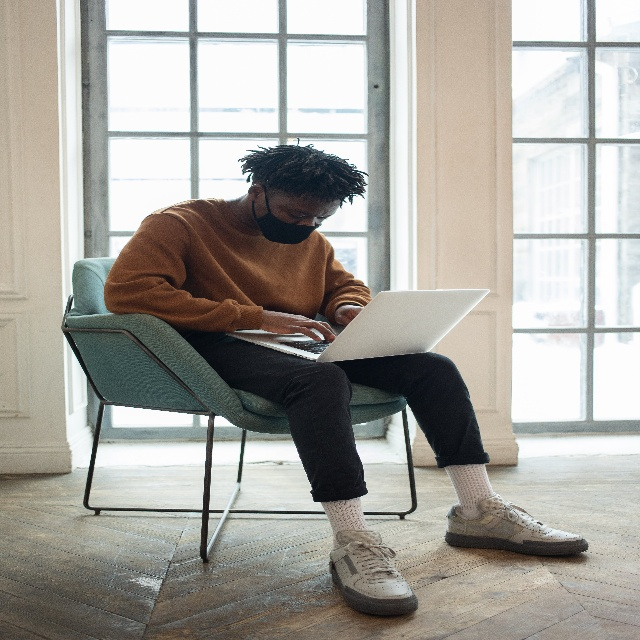Sin_guantes: (260, 310, 336, 343), (335, 304, 364, 325)
